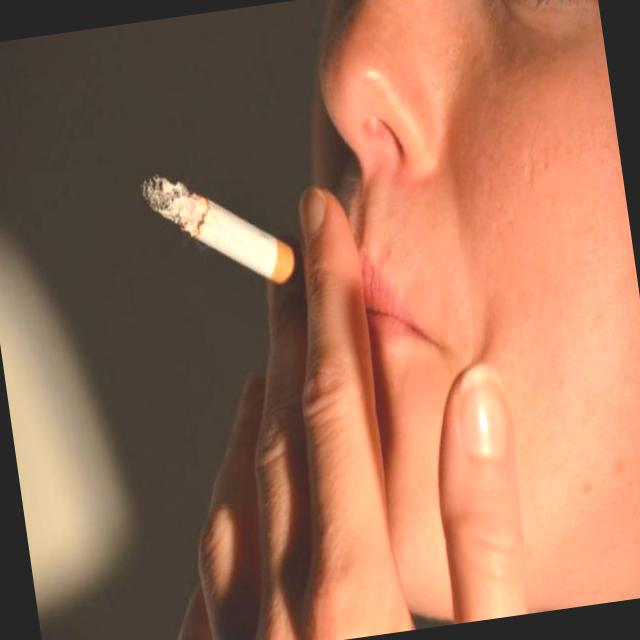cigarette: (132, 146, 316, 324)
